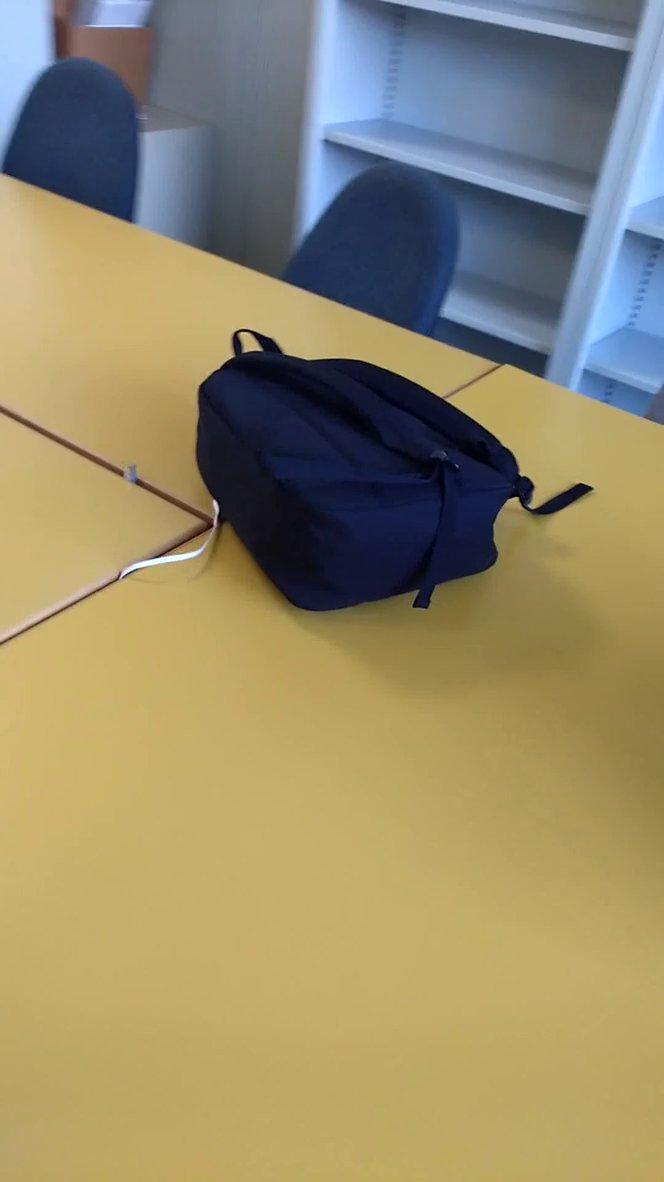bag: (183, 314, 602, 624)
chair: (260, 159, 474, 358), (3, 46, 154, 244)
